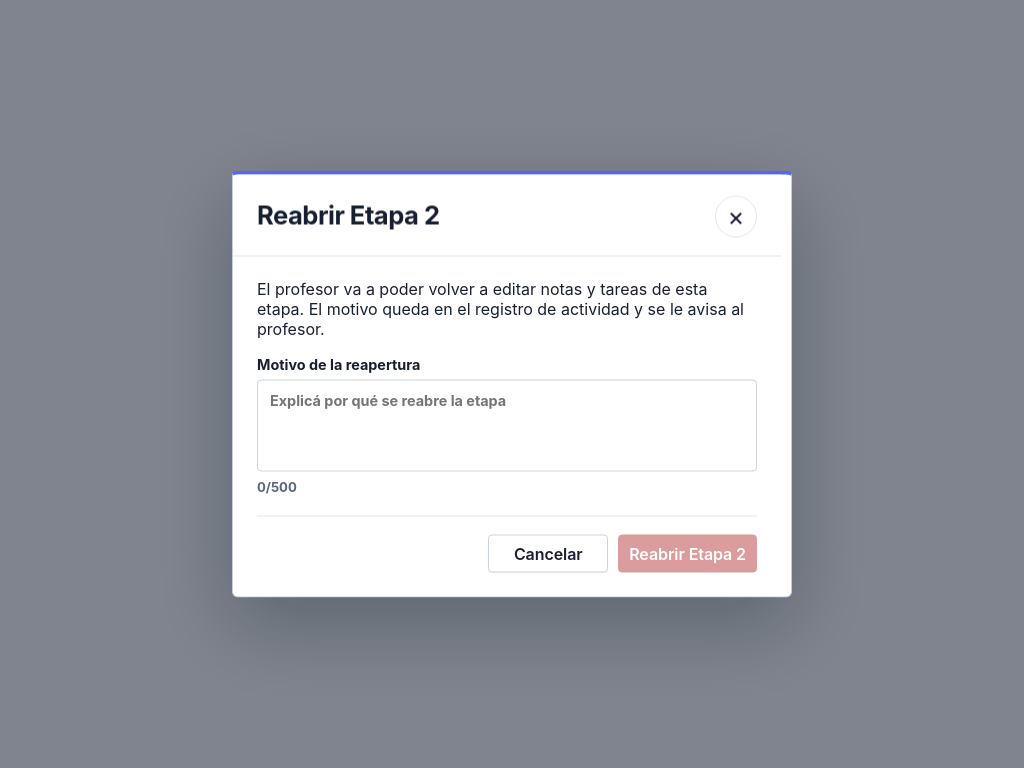
ReabrirEtapaDialog › si falla muestra el error, conserva el motivo y deja reintentar
Type "Motivo válido" into the text box labelled "Motivo de la reapertura 0/500" at (507, 426), box [257,380,757,472]
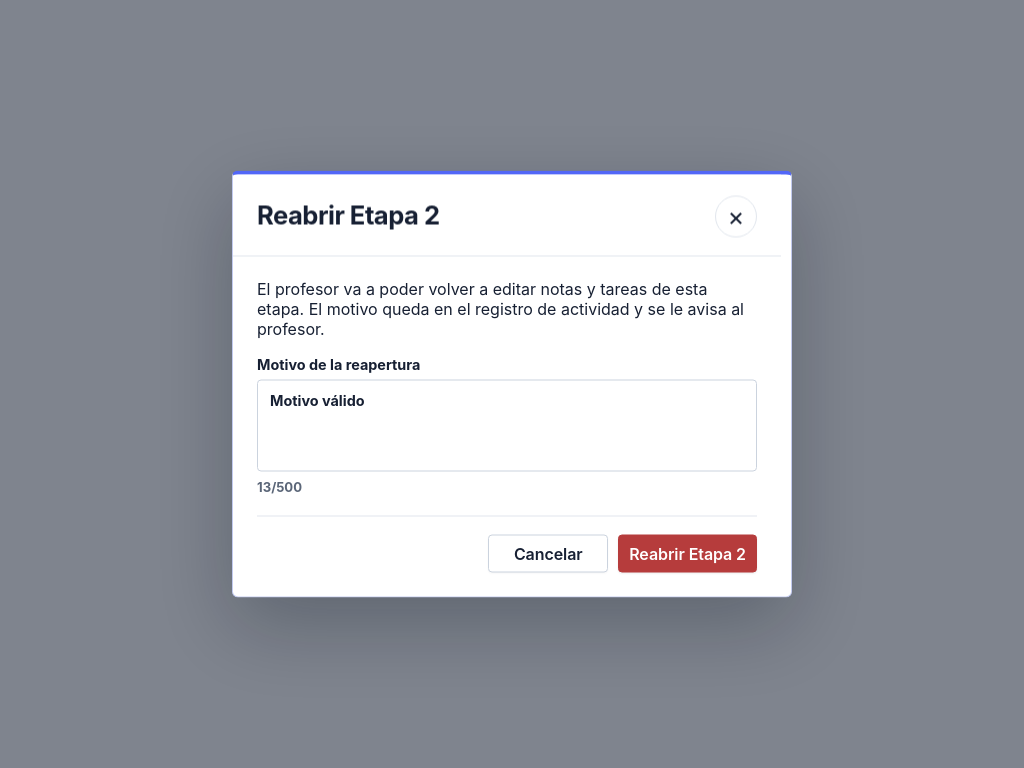
Click the button "Reabrir Etapa 2" at (688, 554), box [618,534,757,572]
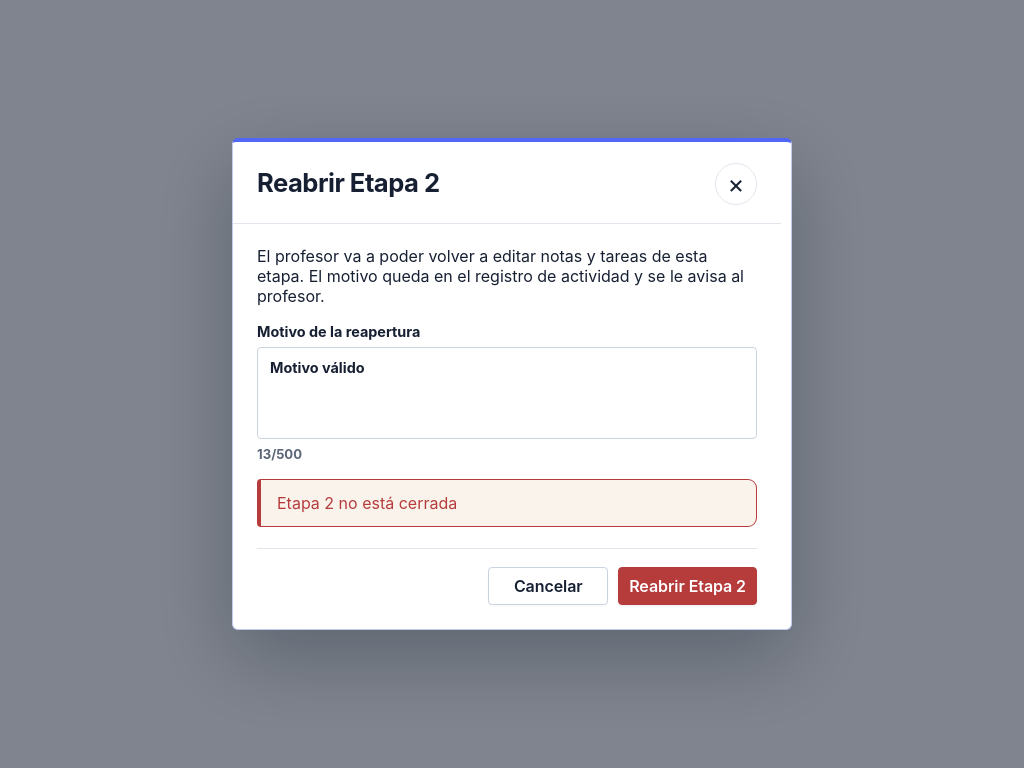
Expected: the button "Reabrir Etapa 2" is enabled, [618,567,757,605]
Expected: the message reads "Etapa 2 no está cerrada", [277,493,457,513]
